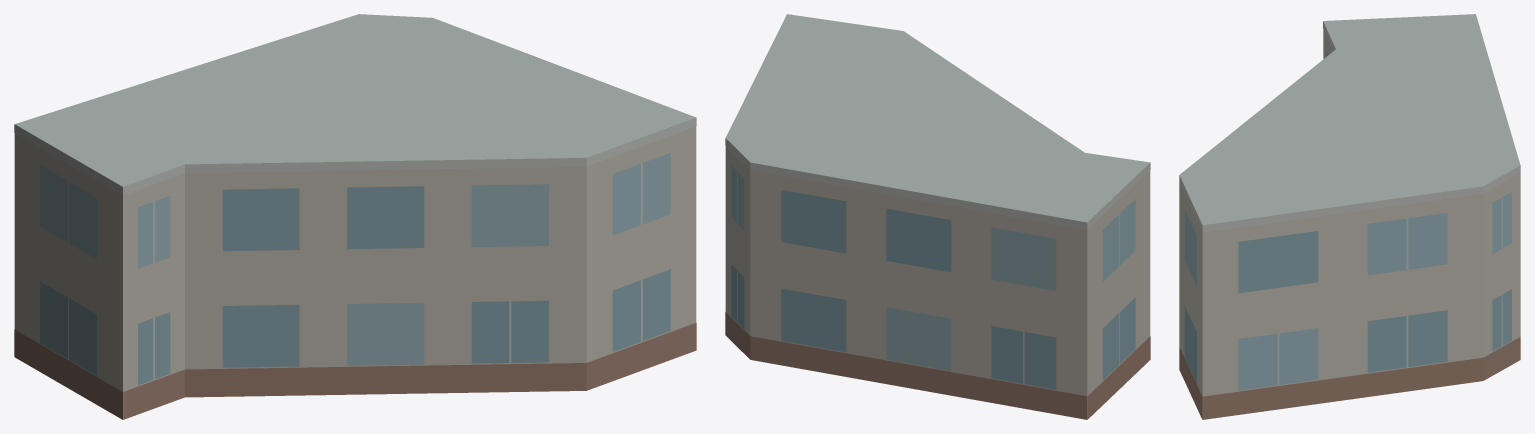
Rendered from survey-upis-32609119.glb.
3 views of the same model, side by side, from view 1: azimuth 30°, elevation 25°; view 2: azimuth 150°, elevation 25°; view 3: azimuth 270°, elevation 25° (orthographic). The views are drawn at different scales.
Visible parts, largest first — view 1: survey-upis-32609119.tmp; view 2: survey-upis-32609119.tmp; view 3: survey-upis-32609119.tmp.
Boxes of the visible parts, x1,y1,x2,y2 form: survey-upis-32609119.tmp: (14, 14, 696, 419); survey-upis-32609119.tmp: (725, 14, 1150, 419); survey-upis-32609119.tmp: (1179, 14, 1520, 419).
Size of the model in its own units: 14.91 by 6.4 by 10.18.
